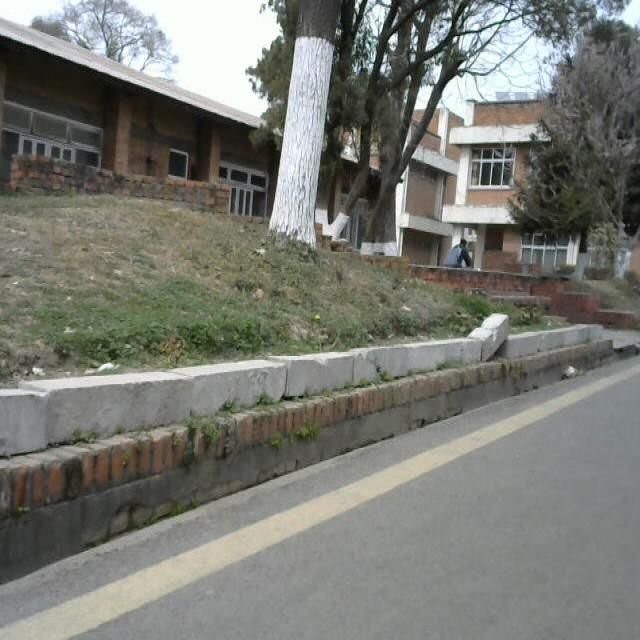Buildings: (3, 15, 298, 247), (468, 95, 553, 264)
grass: (9, 199, 418, 373)
small-obstacles: (480, 0, 640, 268)
trees: (14, 353, 639, 640), (346, 0, 431, 238), (282, 4, 334, 250)
